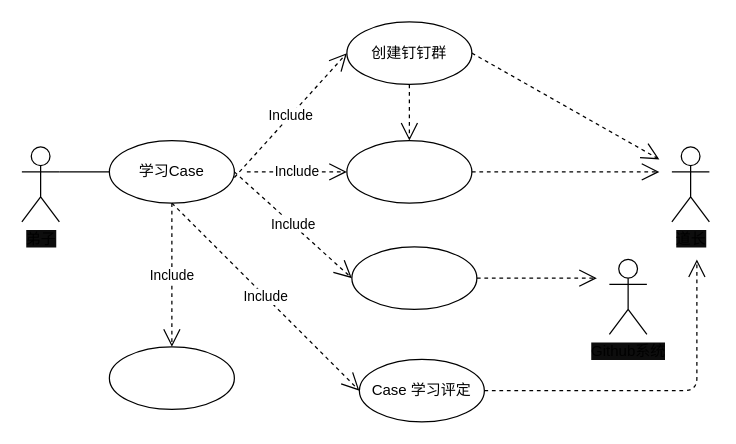
This 736x444 diagram has some shape labels left out. Here are the shapes that lost their labels. From the top down, the centre of each, then its label:
At (409,171): "道长分配".
At (414,277): "创建git repo".
At (171,377): "技术说明与Demo展示".
